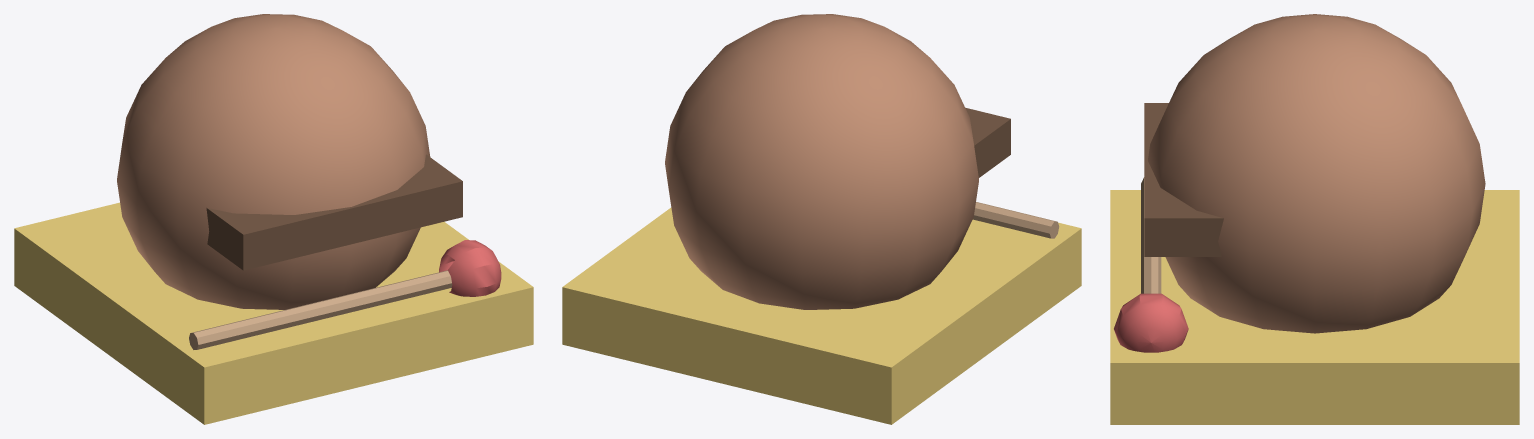
File: mo_go_tung_kinh.glb
3 renders of one model, left to right at view 1: azimuth 30°, elevation 25°; view 2: azimuth 150°, elevation 25°; view 3: azimuth 270°, elevation 25°, orthographic. The views are drawn at different scales.
Parts seen in each view (by area): view 1: mo_go_tung_kinh.001, mo_go_tung_kinh_dui; view 2: mo_go_tung_kinh.001, mo_go_tung_kinh_dui; view 3: mo_go_tung_kinh.001, mo_go_tung_kinh_dui.
Part boxes in pixels (bbox=[...]): mo_go_tung_kinh.001: bbox=[14, 14, 533, 424]; mo_go_tung_kinh_dui: bbox=[189, 240, 501, 349]; mo_go_tung_kinh.001: bbox=[562, 14, 1081, 424]; mo_go_tung_kinh_dui: bbox=[972, 202, 1059, 238]; mo_go_tung_kinh.001: bbox=[1110, 14, 1519, 424]; mo_go_tung_kinh_dui: bbox=[1114, 177, 1188, 352].
Bounding box in the file's own units: 0.24 × 0.2 × 0.24.
